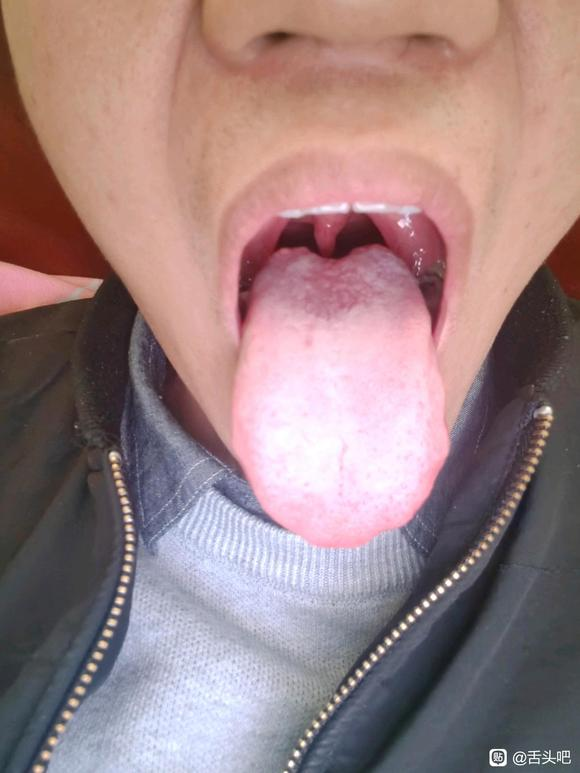baitaishe: (231, 243, 450, 548)
liewenshe: (334, 440, 349, 497)
shenquao: (293, 243, 376, 272)
